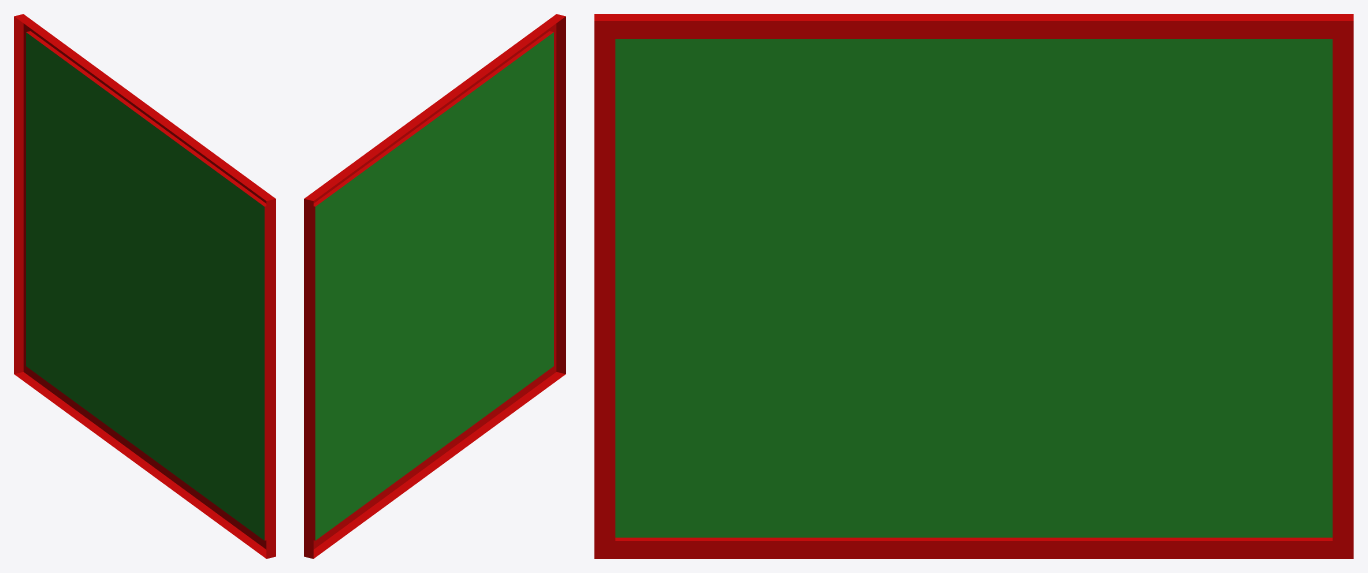
Rendered from Painting 3.fbx.
3 renders of one model, left to right at view 1: azimuth 30°, elevation 25°; view 2: azimuth 150°, elevation 25°; view 3: azimuth 270°, elevation 25°, orthographic. The views are drawn at different scales.
Parts seen in each view (by area): view 1: Cube.002; view 2: Cube.002; view 3: Cube.002.
Boxes of the visible parts, <box> form: Cube.002: <box>14,14,275,558</box>; Cube.002: <box>304,14,565,558</box>; Cube.002: <box>594,14,1353,558</box>.
Bounding box in the file's own units: 1.33 × 48.09 × 61.5.
